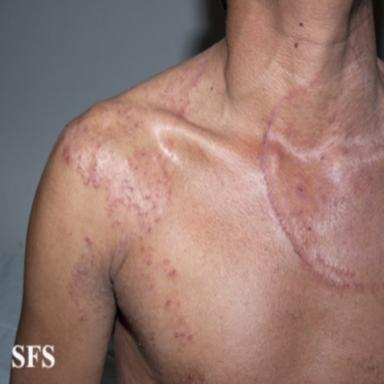Tinea-Corporis: (60, 40, 219, 384), (261, 0, 384, 293)
